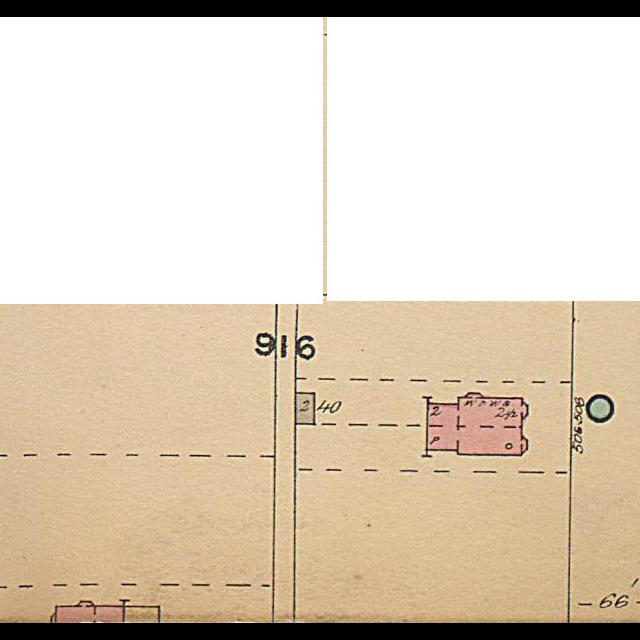building-footprints: (427, 392, 527, 456), (51, 601, 124, 623), (295, 392, 315, 425), (124, 606, 159, 623)
